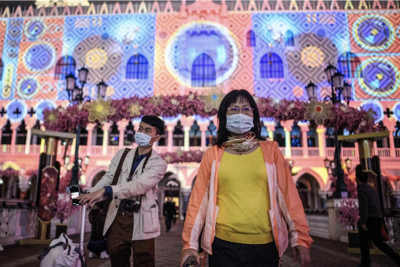with_mask: (224, 102, 256, 135), (133, 126, 158, 149)
